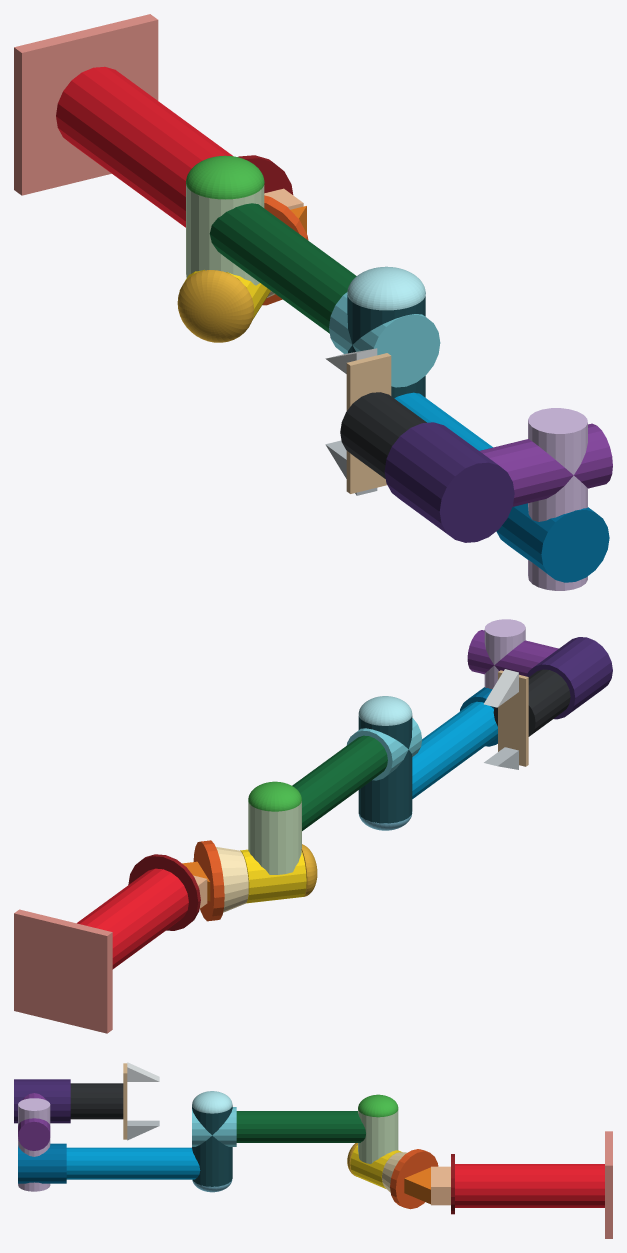
The model's file is tinker.obj.
The picture shows the model from 3 angles, top to bottom: view 1: azimuth 30°, elevation 25°; view 2: azimuth 150°, elevation 25°; view 3: azimuth 270°, elevation 25°; orthographic projection. The views are drawn at different scales.
Parts seen in each view (by area): view 1: group_0_15308428, group_0_15277357, group_0_4796018, group_0_1206582, group_0_30377, group_0_13877221, group_0_8273816, group_0_7720667, group_0_14789940, group_0_2829873, group_0_13165757, group_0_14860437 (+6 smaller); view 2: group_0_15308428, group_0_15277357, group_0_1206582, group_0_40919, group_0_1855578, group_0_4796018, group_0_13165757, group_0_2829873, group_0_16768282, group_0_14860437, group_0_8273816, group_0_9771553 (+7 smaller); view 3: group_0_15277357, group_0_40919, group_0_1206582, group_0_1855578, group_0_2829873, group_0_4796018, group_0_30377, group_0_13165757, group_0_14900002, group_0_13877221, group_0_8273816, group_0_7720667 (+10 smaller).
Boxes of the visible parts, <box> form: group_0_15308428: <box>14,14,158,195</box>; group_0_15277357: <box>56,66,232,227</box>; group_0_4796018: <box>384,422,514,542</box>; group_0_1206582: <box>209,203,356,333</box>; group_0_30377: <box>496,503,609,582</box>; group_0_13877221: <box>528,408,587,590</box>; group_0_8273816: <box>479,423,612,506</box>; group_0_7720667: <box>329,292,440,387</box>; group_0_14789940: <box>177,270,253,342</box>; group_0_2829873: <box>340,392,426,478</box>; group_0_13165757: <box>186,184,264,285</box>; group_0_14860437: <box>346,353,391,493</box>; group_0_15308428: <box>14,909,112,1033</box>; group_0_15277357: <box>77,868,188,969</box>; group_0_1206582: <box>292,735,387,830</box>; group_0_40919: <box>412,701,497,798</box>; group_0_1855578: <box>358,716,412,823</box>; group_0_4796018: <box>526,637,612,719</box>; group_0_13165757: <box>248,801,301,874</box>; group_0_2829873: <box>493,669,570,736</box>; group_0_16768282: <box>240,849,306,903</box>; group_0_14860437: <box>498,670,528,766</box>; group_0_8273816: <box>467,630,558,676</box>; group_0_9771553: <box>128,854,200,930</box>; group_0_15277357: <box>455,1164,604,1207</box>; group_0_40919: <box>66,1147,200,1179</box>; group_0_1206582: <box>236,1111,365,1142</box>; group_0_1855578: <box>192,1105,232,1186</box>; group_0_2829873: <box>70,1083,123,1119</box>; group_0_4796018: <box>14,1079,70,1123</box>; group_0_30377: <box>18,1143,66,1183</box>; group_0_13165757: <box>358,1109,398,1163</box>; group_0_14900002: <box>390,1149,438,1209</box>; group_0_13877221: <box>18,1098,50,1191</box>; group_0_8273816: <box>18,1093,50,1150</box>; group_0_7720667: <box>192,1107,236,1146</box>.
Bounding box in the file's own units: 43 × 30 × 148.
